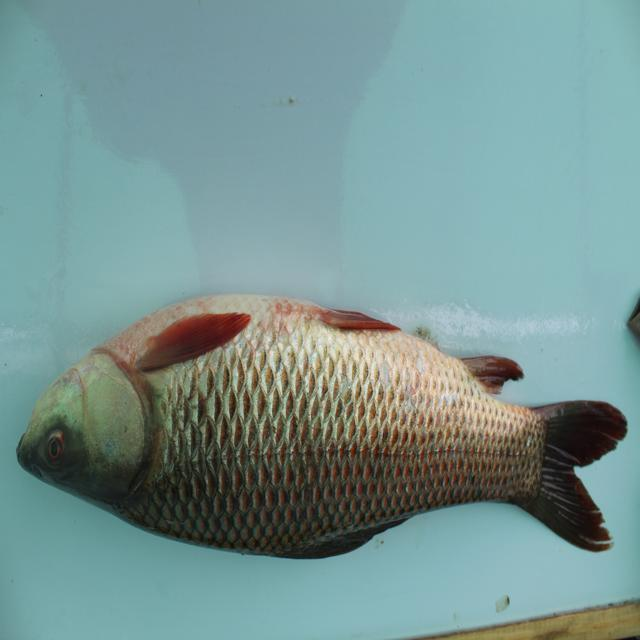Rohu: (25, 271, 618, 588)
